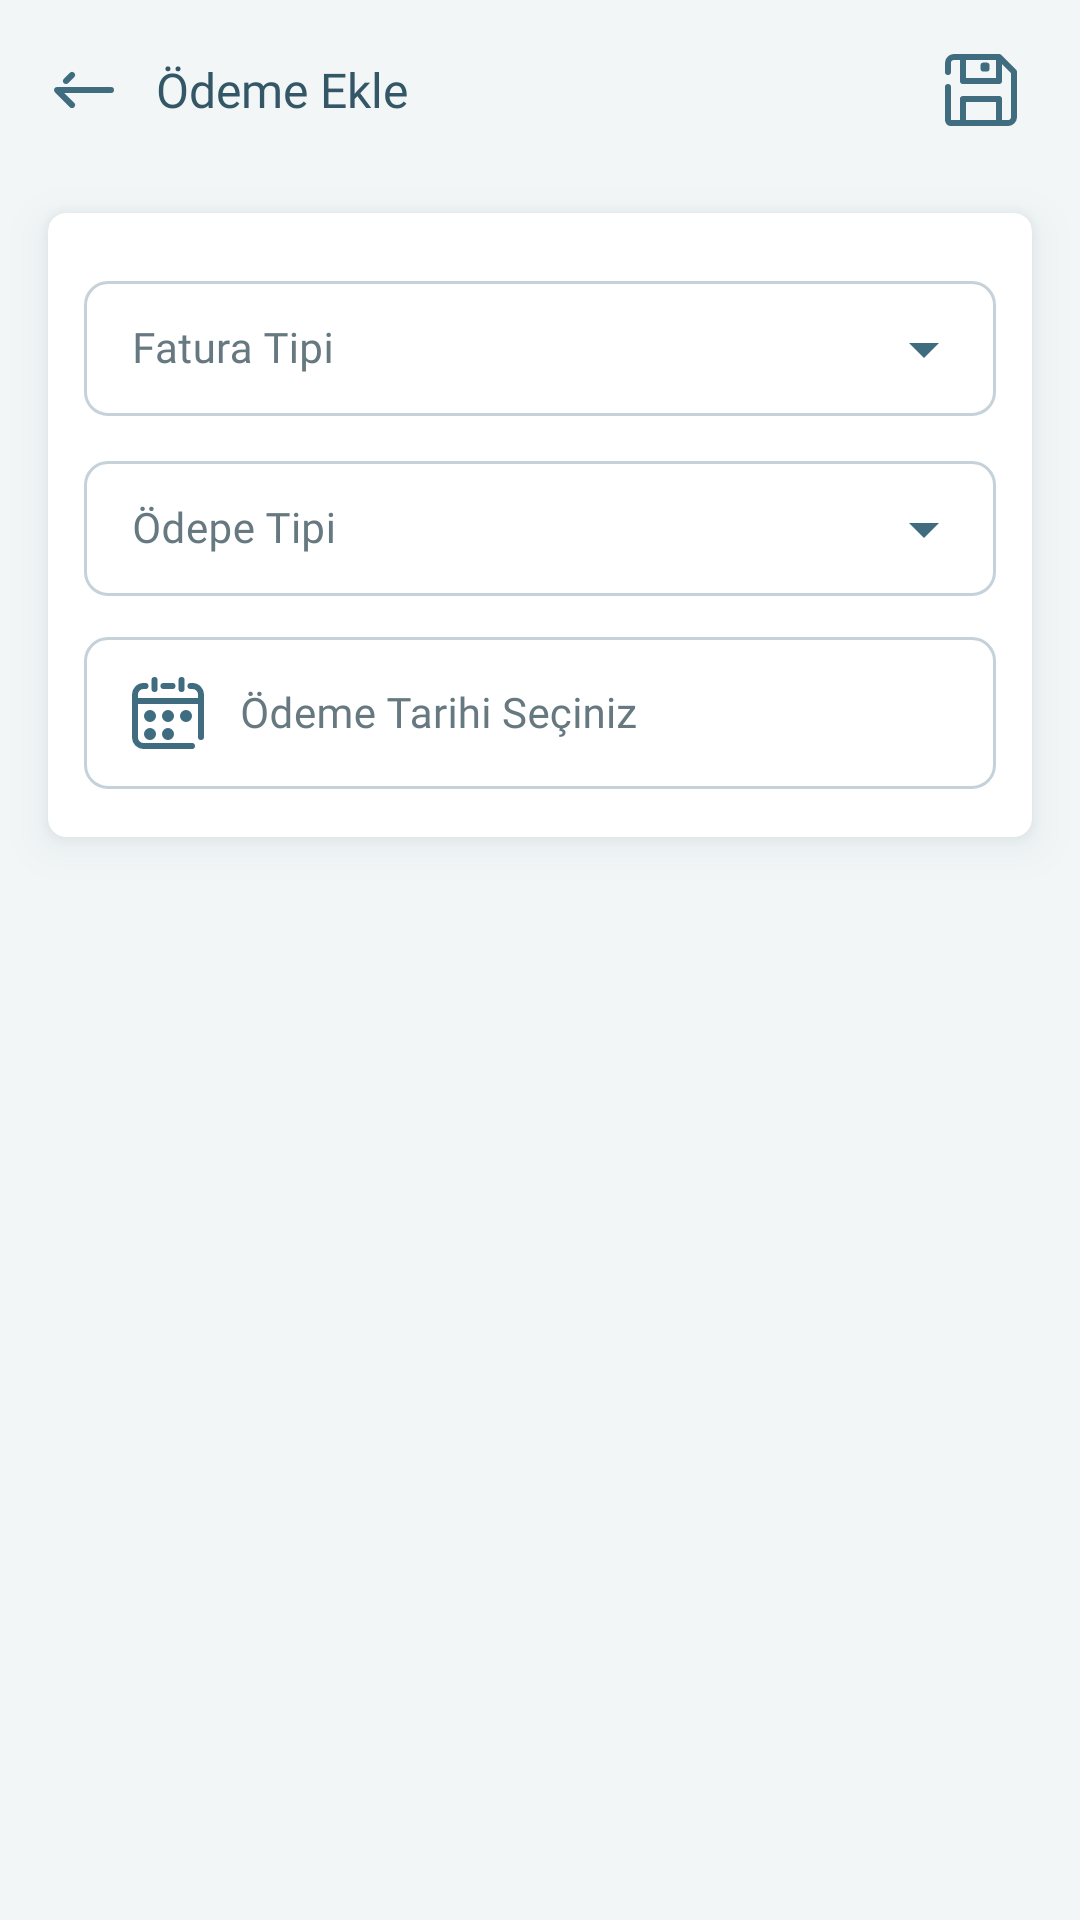

Icon click points for this 1080*1920 phone screenshot, format (x,y):
save: (981,90)
